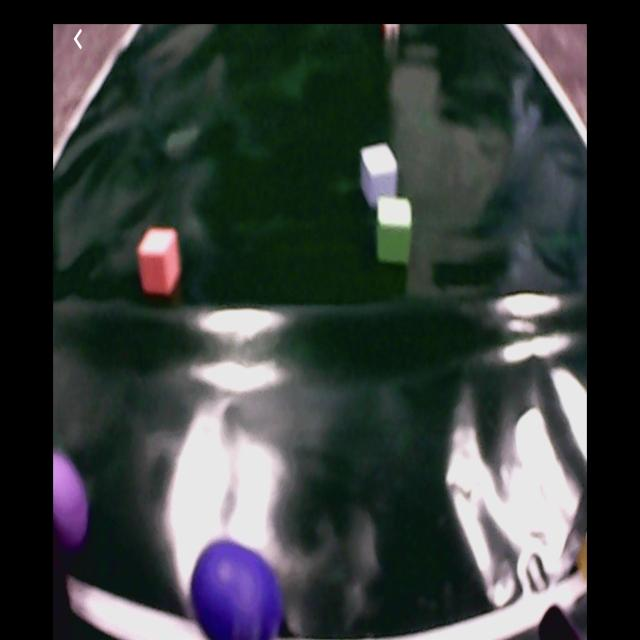ball: (192, 541, 283, 640), (53, 453, 91, 547)
